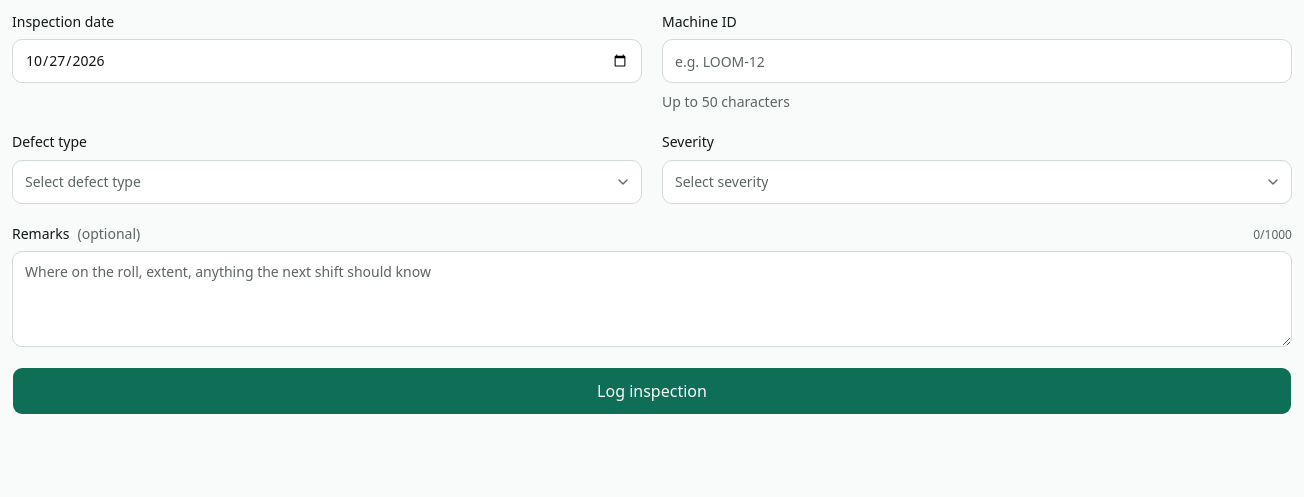
Scenario: InspectionForm › shows a form-level error for non-validation failures
Type "LOOM-1" into the field labelled "Machine ID" at [977, 61], box [662,39,1292,83]
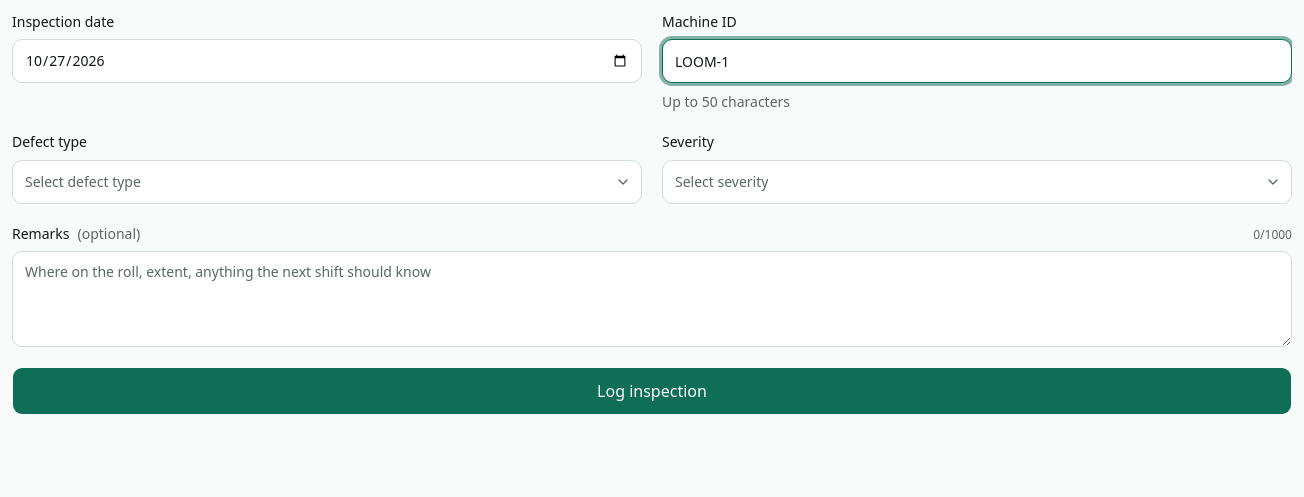
Click the dropdown labelled "defect type" at [83, 181], box [12,160,642,204]
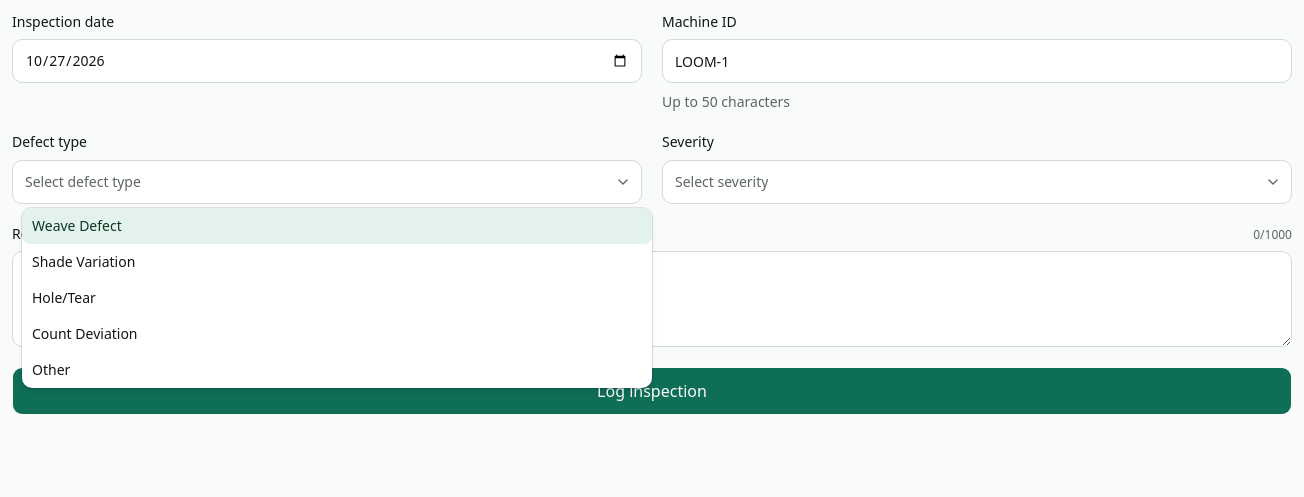
Click the option "Hole/Tear" at [64, 298], box [32,288,96,307]
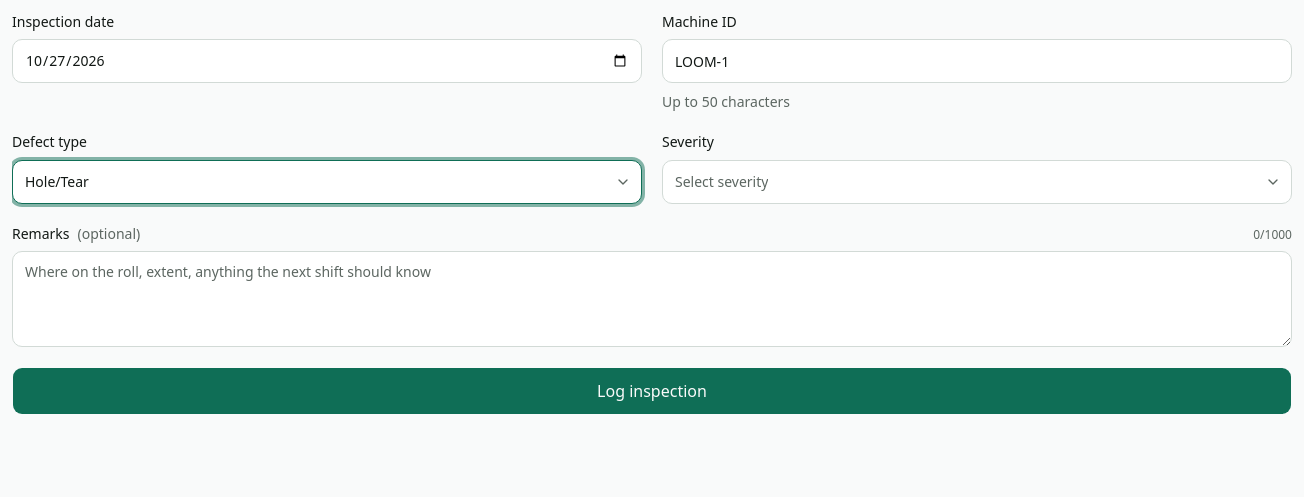
Click the dropdown labelled "severity" at [722, 181], box [662,160,1292,204]
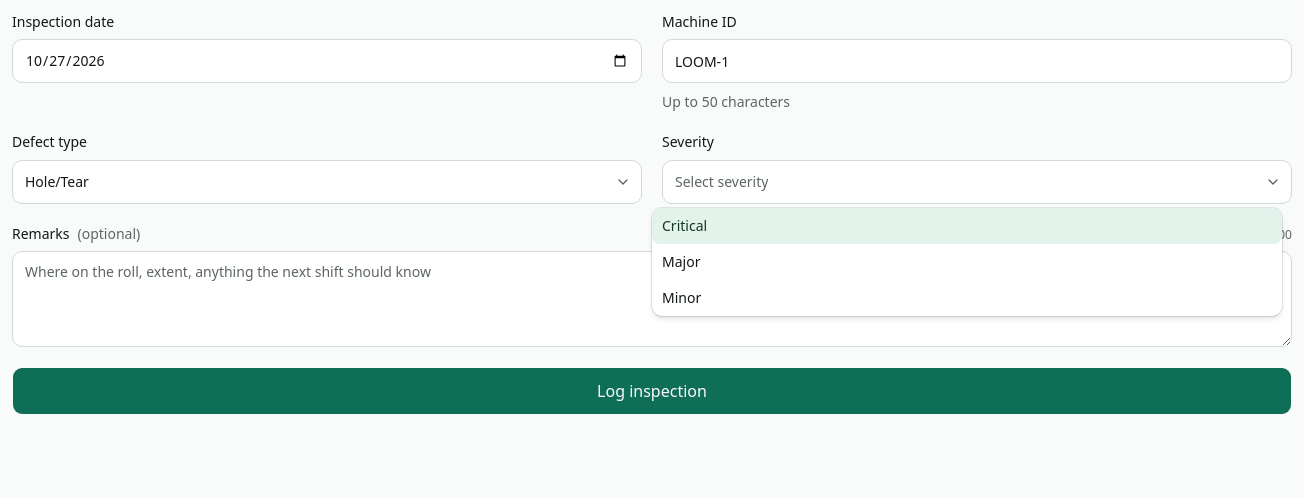
Click the option "Major" at [681, 262], box [662,252,700,271]
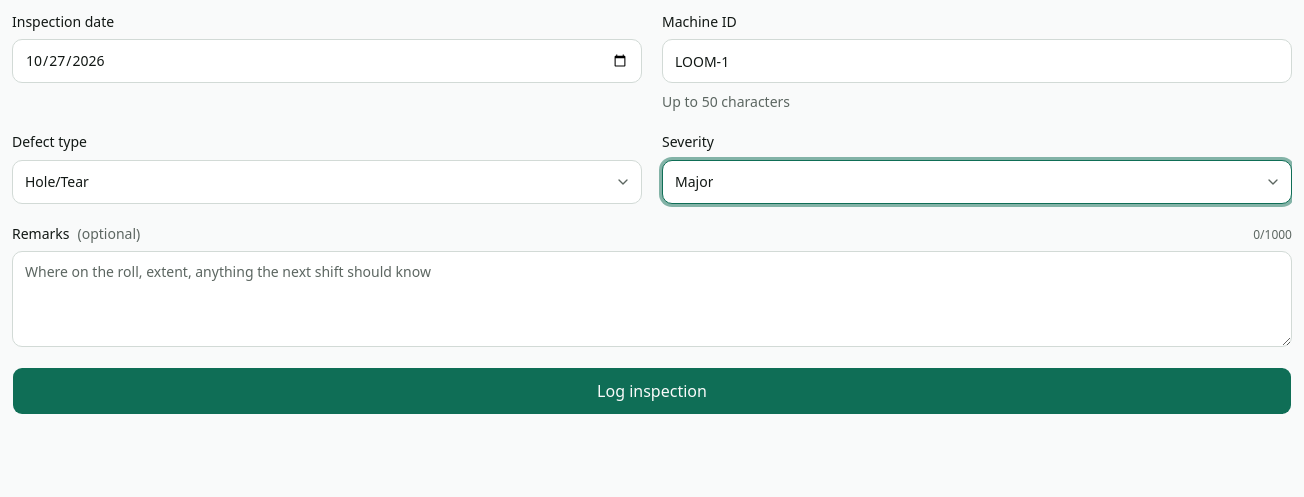
Click the button "Log inspection" at [652, 391], box [12,367,1292,415]
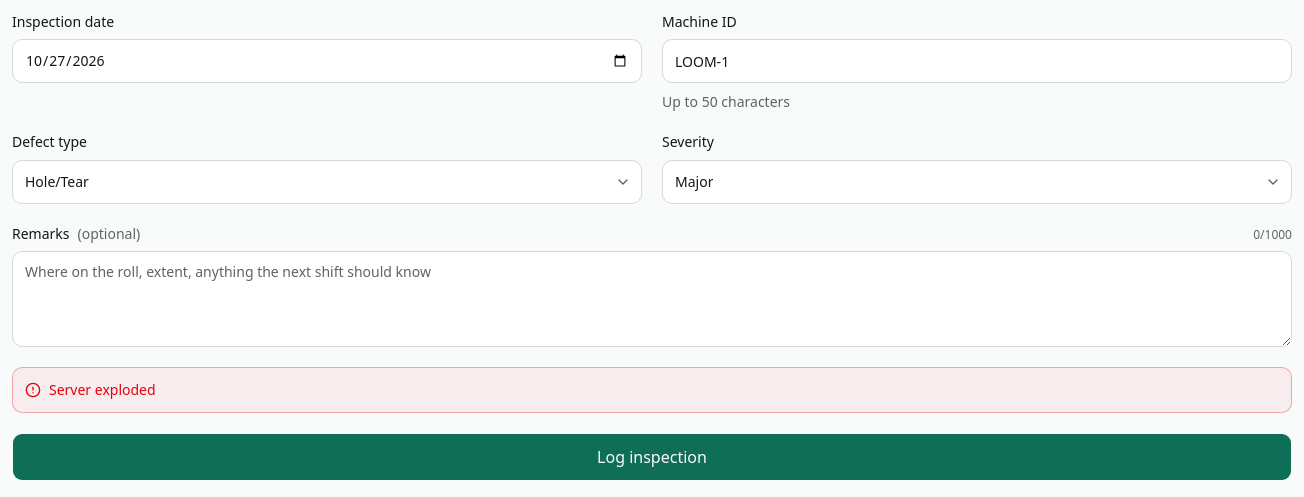
Now the message reads "Server exploded", box [49,380,156,399]
